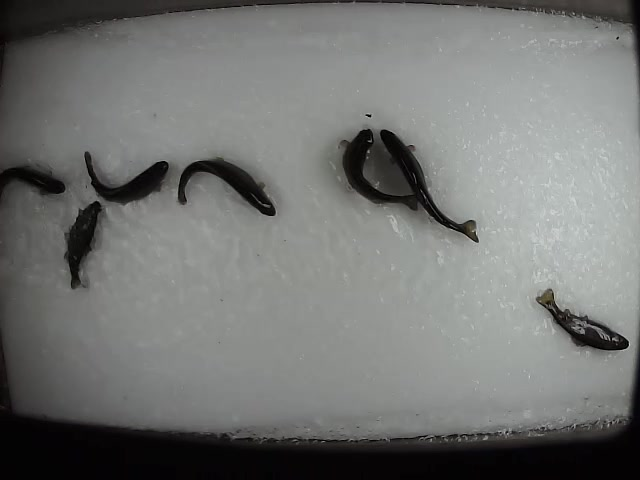fish: (379, 125, 480, 245), (337, 124, 422, 214), (175, 154, 279, 219), (532, 285, 631, 353), (81, 149, 170, 205), (62, 199, 108, 292)
